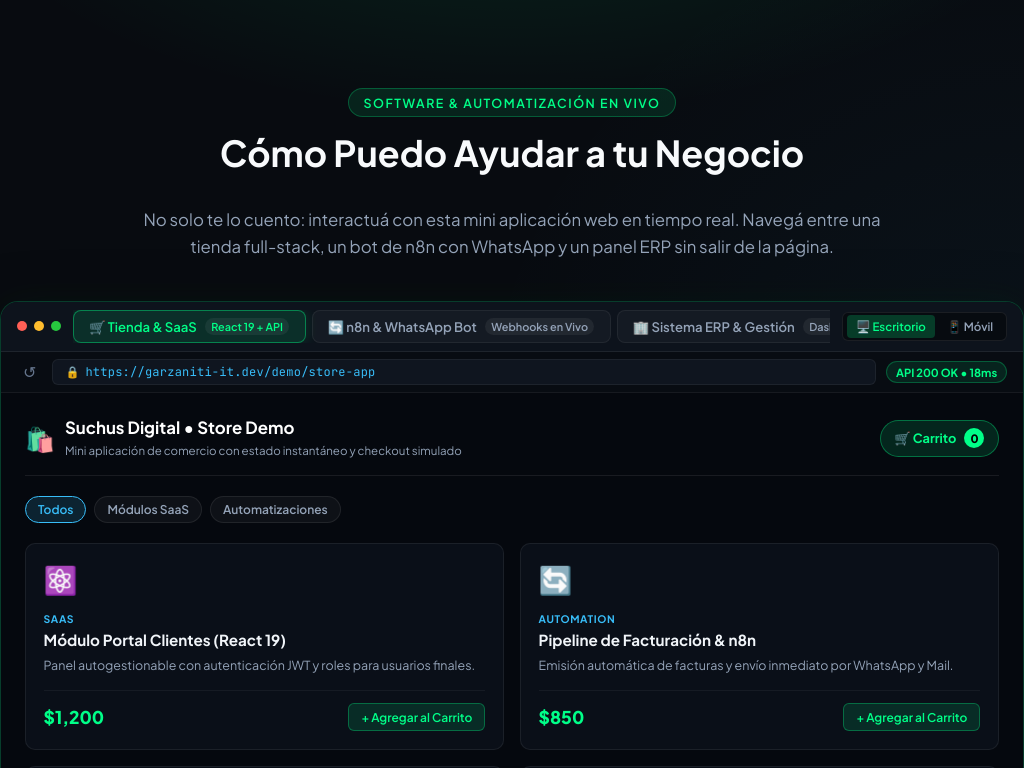
Services Interactive Mini-Web Sandbox › adds a product to cart and updates cart count in the Store Demo
Click the button "+ Agregar al Carrito" in the row of "$1,200" at x=417, y=717, box [348,703,485,731]
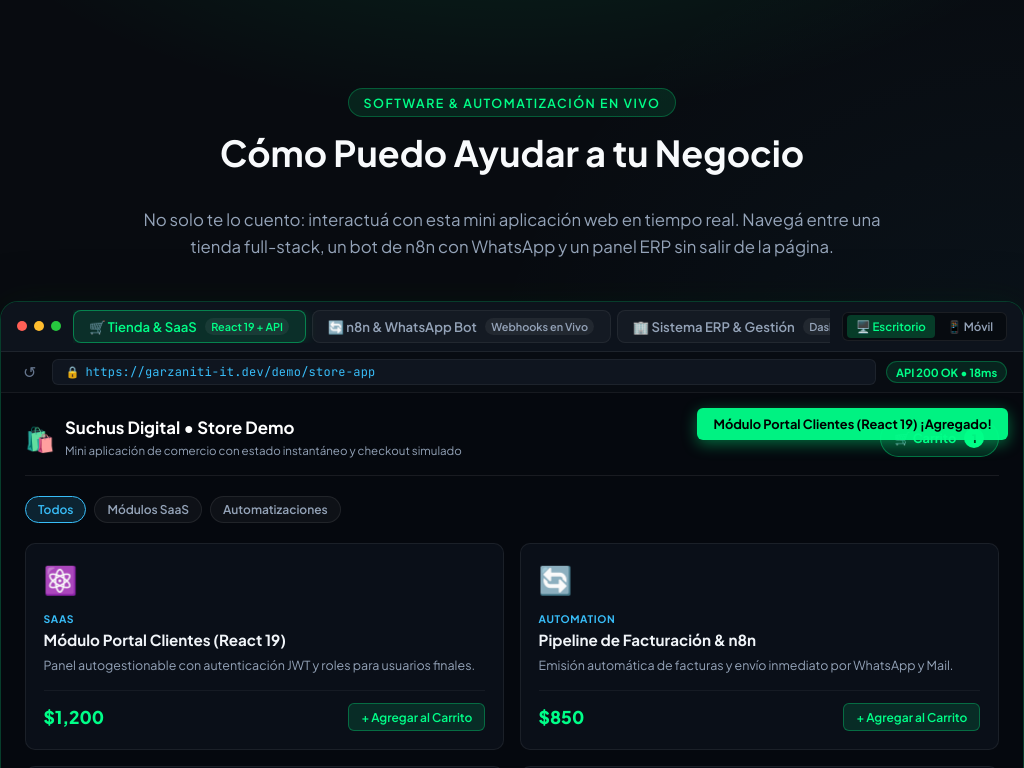
Check: the text "1" is shown, box [964,428,984,448]
